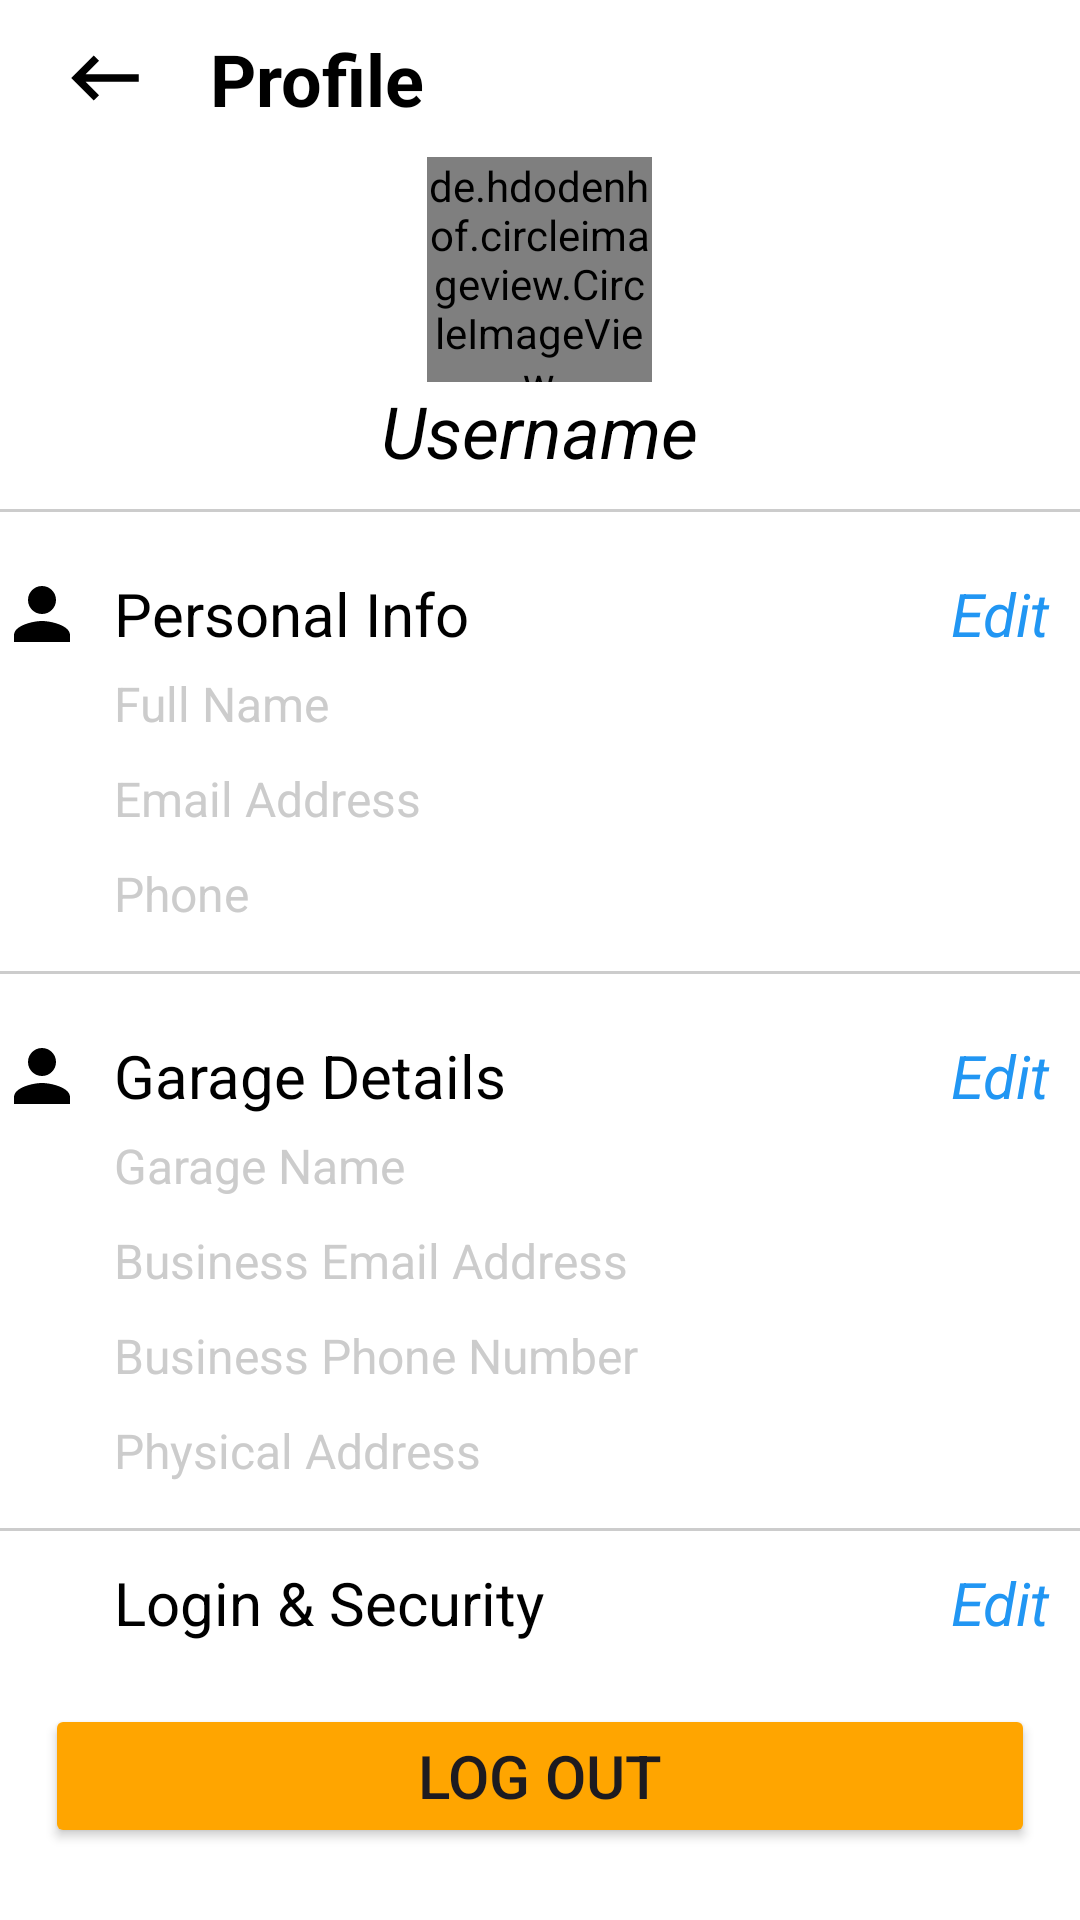

Icon bounding boxes for this 1080w x 1920h phone screenshot, format (x1, y1, x2, y2):
keyboard backspace: (71, 55, 139, 101)
